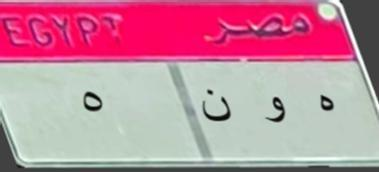5: (74, 84, 116, 121)
haa: (304, 84, 336, 122)
noon: (196, 82, 234, 132)
waw: (258, 90, 292, 134)
